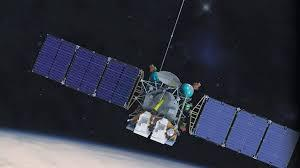antenna: (157, 0, 188, 72), (156, 68, 183, 89)
body: (123, 62, 198, 149)
solar: (29, 30, 144, 111), (191, 94, 300, 168)
